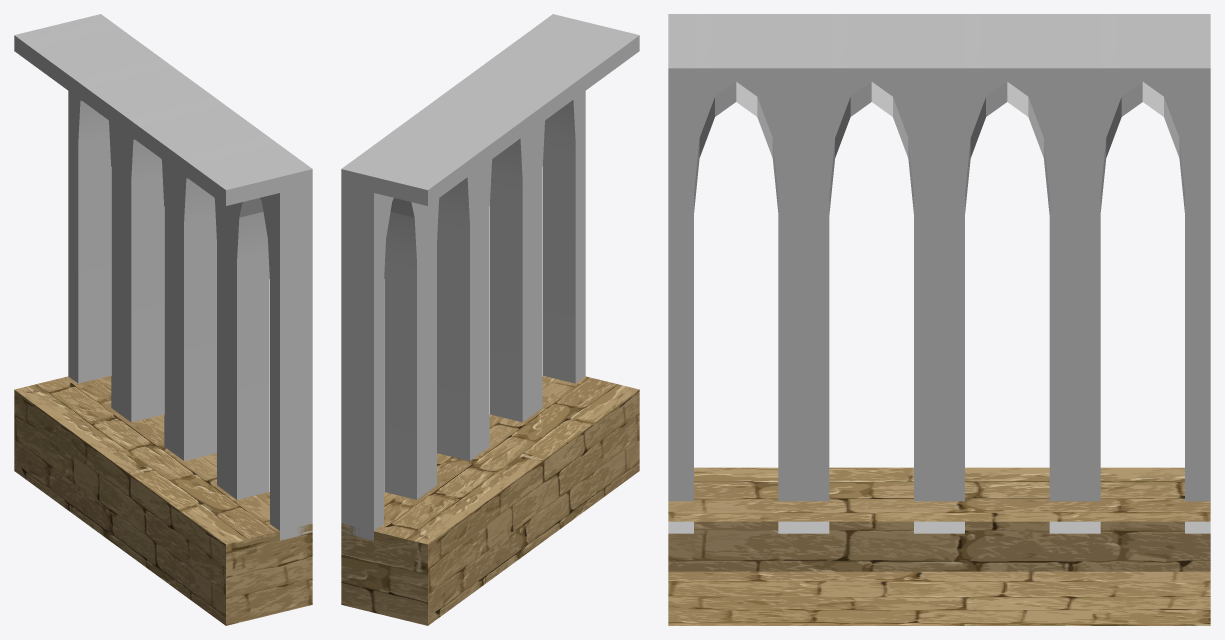
Rendered from narrow_c1_up.fbx.
The picture shows the model from 3 angles, left to right: view 1: azimuth 30°, elevation 25°; view 2: azimuth 150°, elevation 25°; view 3: azimuth 270°, elevation 25°; orthographic projection. The views are drawn at different scales.
Visible parts, largest first — view 1: polySurface2141; view 2: polySurface2141; view 3: polySurface2141.
Boxes of the visible parts, bbox=[...] form: polySurface2141: bbox=[14, 14, 312, 625]; polySurface2141: bbox=[341, 14, 639, 625]; polySurface2141: bbox=[668, 14, 1210, 625].
Size of the model in its own units: 37.92 by 182 by 160.
